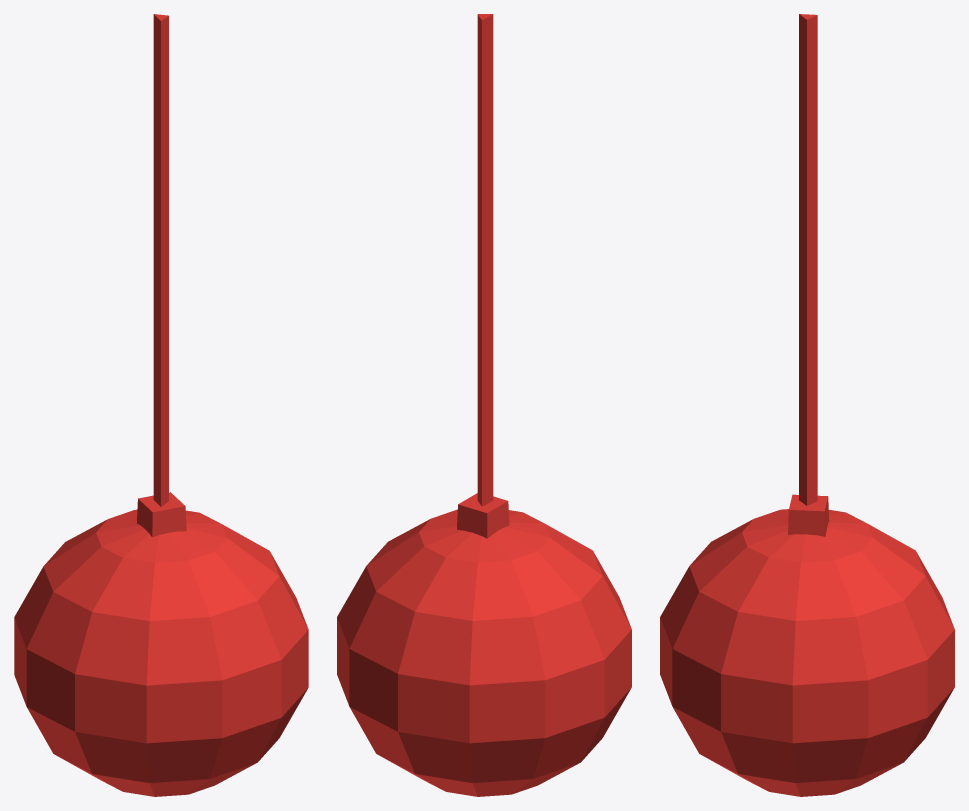
The model's file is SM_Tree_Christmas_Ball.fbx.
3 renders of one model, left to right at view 1: azimuth 30°, elevation 25°; view 2: azimuth 150°, elevation 25°; view 3: azimuth 270°, elevation 25°, orthographic.
Visible parts, largest first — view 1: tree-christmas-ball; view 2: tree-christmas-ball; view 3: tree-christmas-ball.
Boxes of the visible parts, bbox=[...] form: tree-christmas-ball: bbox=[14, 14, 308, 796]; tree-christmas-ball: bbox=[337, 14, 631, 796]; tree-christmas-ball: bbox=[660, 14, 954, 796].
Bounding box in the file's own units: 0.0806 × 0.231 × 0.0806.
